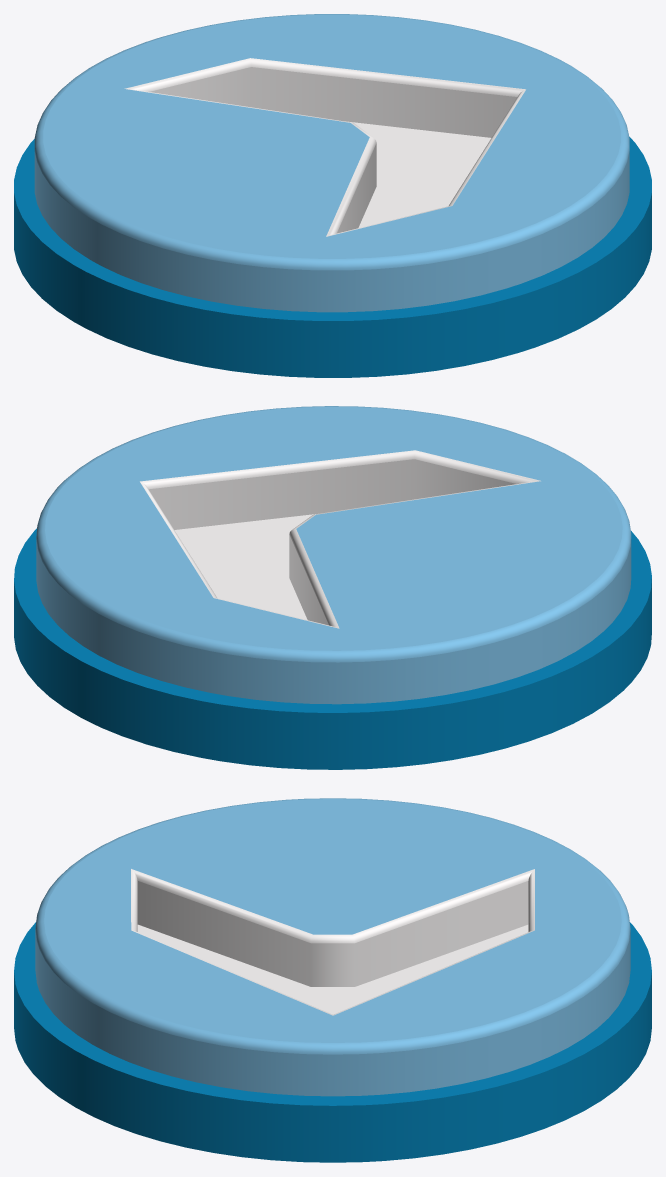
File: strelki_color_2.fbx
3 views of the same model, one above another, from view 1: azimuth 30°, elevation 25°; view 2: azimuth 150°, elevation 25°; view 3: azimuth 270°, elevation 25° (orthographic).
Visible parts, largest first — view 1: Arrow_shop; view 2: Arrow_shop; view 3: Arrow_shop.
Boxes of the visible parts, box(x1,y1,x2,y2) form: Arrow_shop: box(14, 14, 651, 377); Arrow_shop: box(14, 406, 651, 769); Arrow_shop: box(14, 798, 651, 1162).
Size of the model in its own units: 136 by 25.14 by 136.
